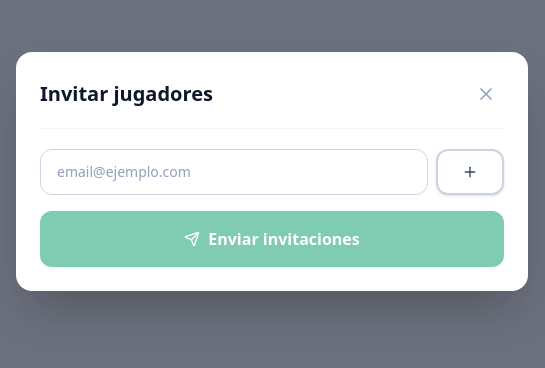
Scenario: InviteModal › adds valid email as chip
The image size is (545, 368).
In the field with placeholder "email@ejemplo.com": (234, 172) top-left (40, 148), bottom-right (428, 194), type "test@example.com"
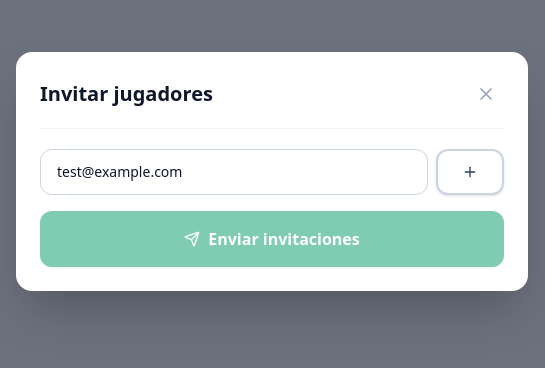
Click the button named "Agregar email": (470, 172) top-left (436, 148), bottom-right (504, 194)
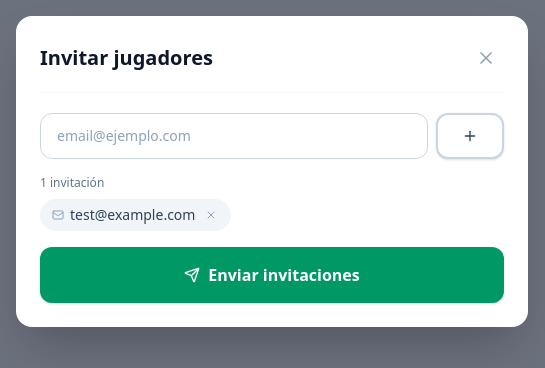
Expected: the text "test@example.com" is shown, top-left (40, 198), bottom-right (231, 230)
Expected: the text "1 invitación" is shown, top-left (40, 174), bottom-right (104, 190)
